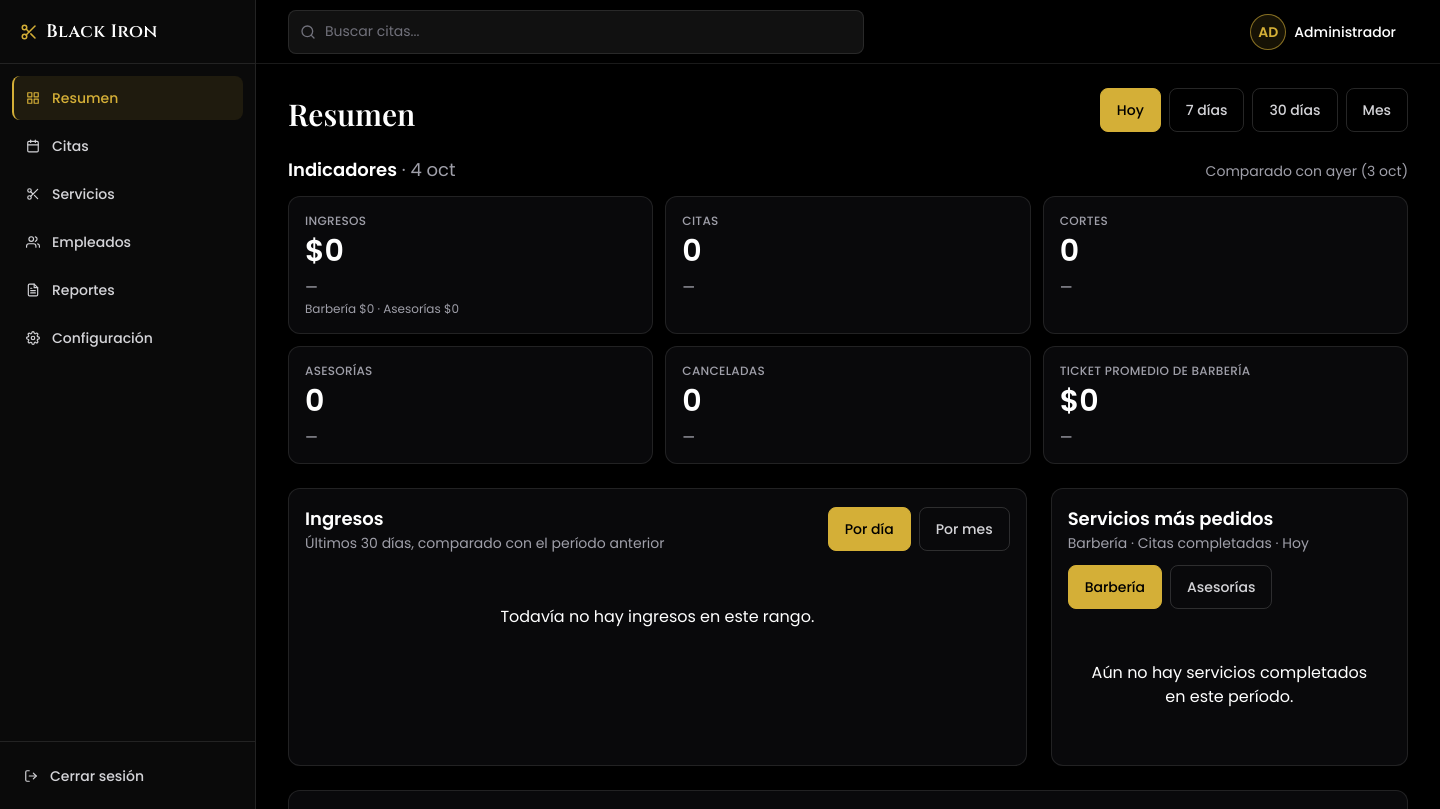
Test case: AdminLayout: confirmación al cerrar sesión › Cancelar y Escape no cierran la sesión y devuelven el foco al botón; el foco inicial está en Cancelar
This screenshot has width=1440, height=809.
Click the button "Cerrar sesión". click: {"x": 128, "y": 776}
box: x1=12 y1=754 x2=243 y2=798
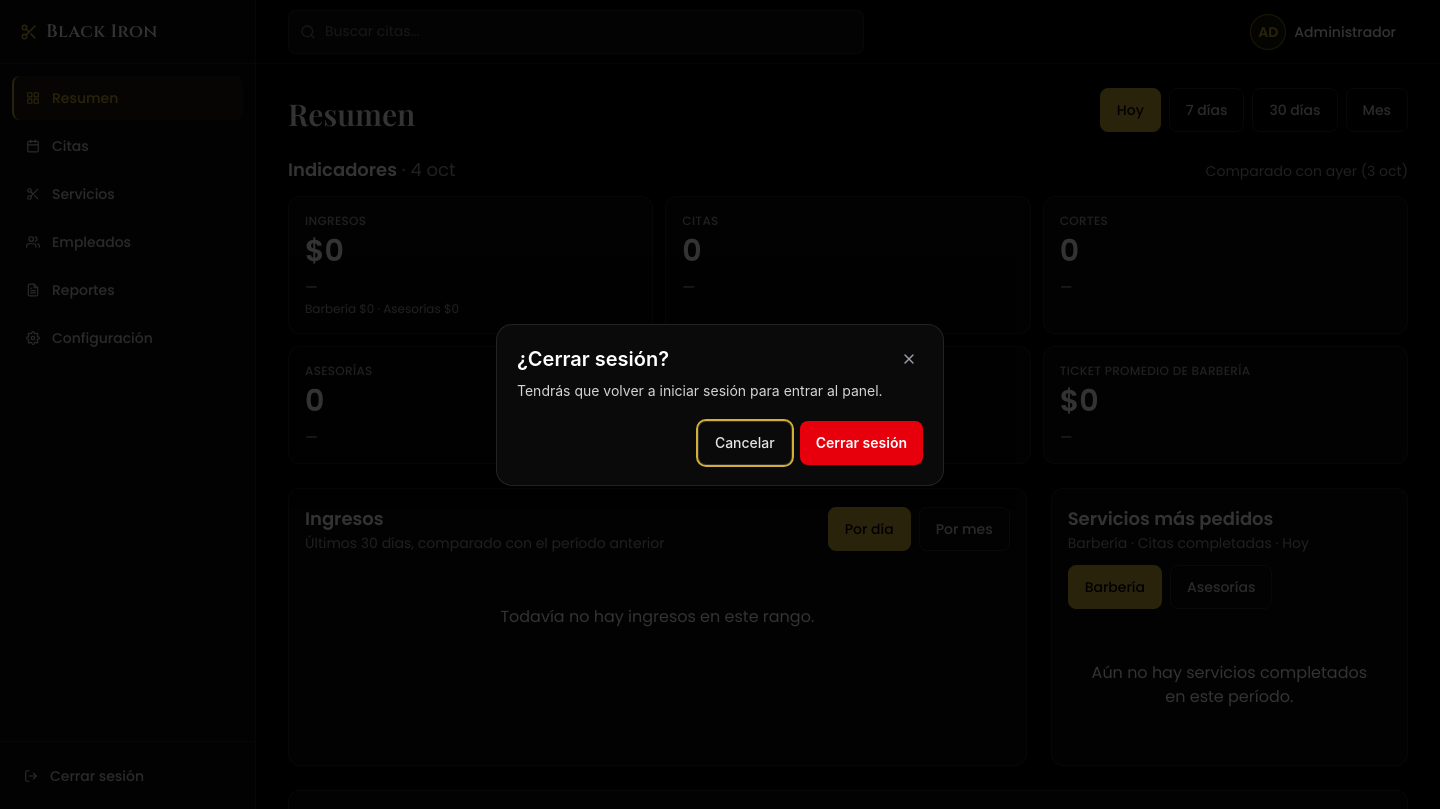
Result: the text "Tendrás que volver a iniciar sesión para entrar al panel." is shown at x1=517 y1=381 x2=923 y2=401
Click the button "Cancelar". click: {"x": 745, "y": 443}
box: x1=698 y1=421 x2=792 y2=465
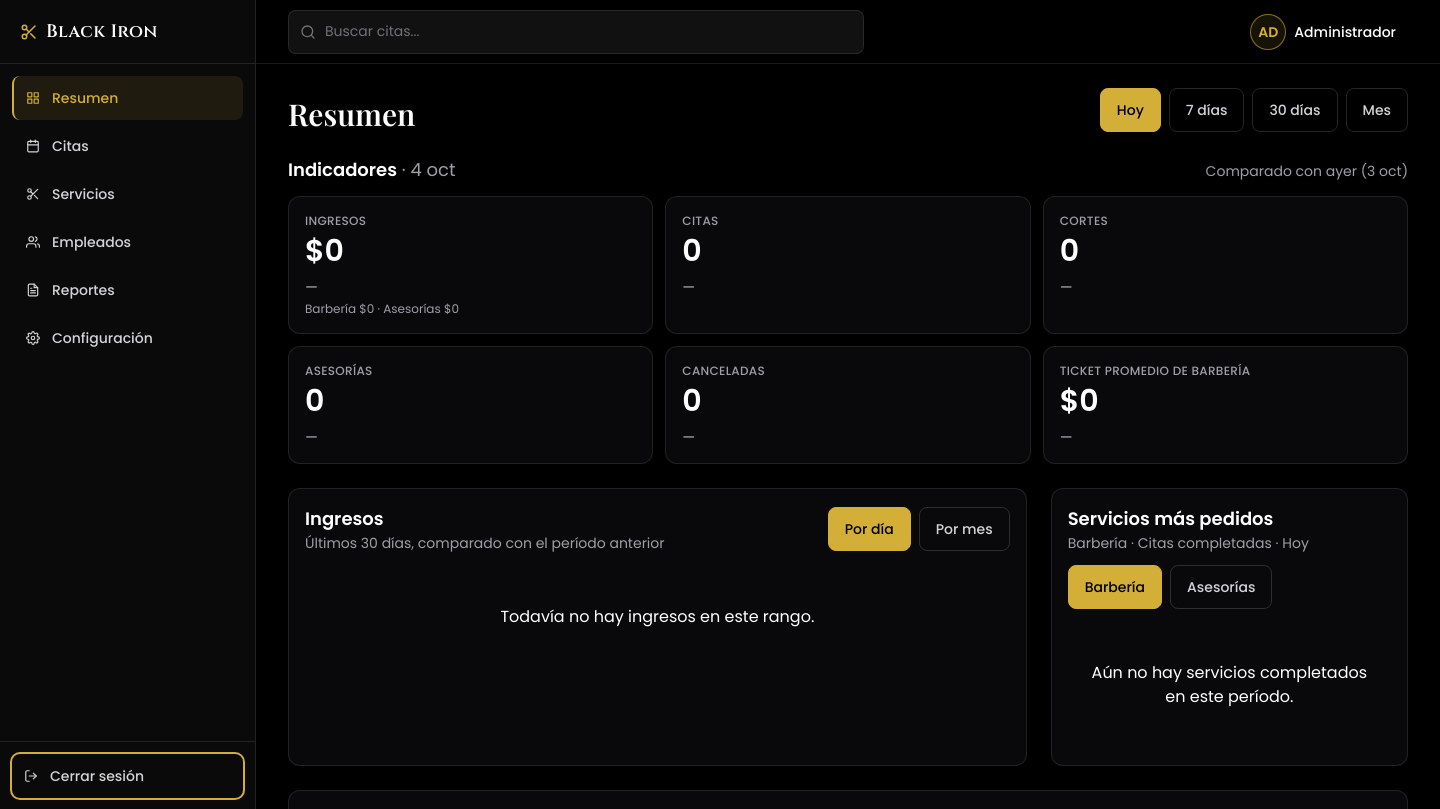
Result: the dialog is gone
Click the button "Cerrar sesión". click: {"x": 128, "y": 776}
box: x1=12 y1=754 x2=243 y2=798
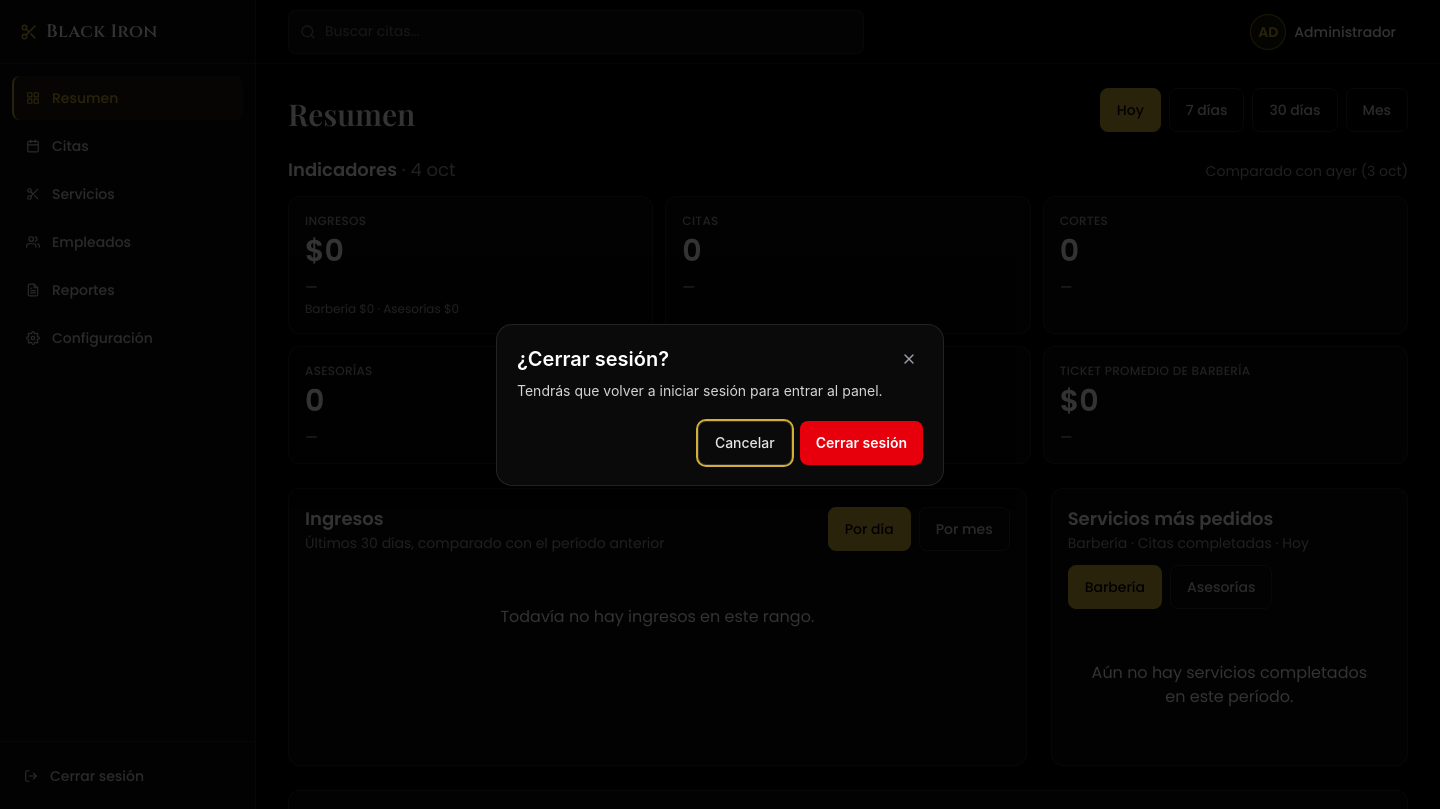
Press Escape
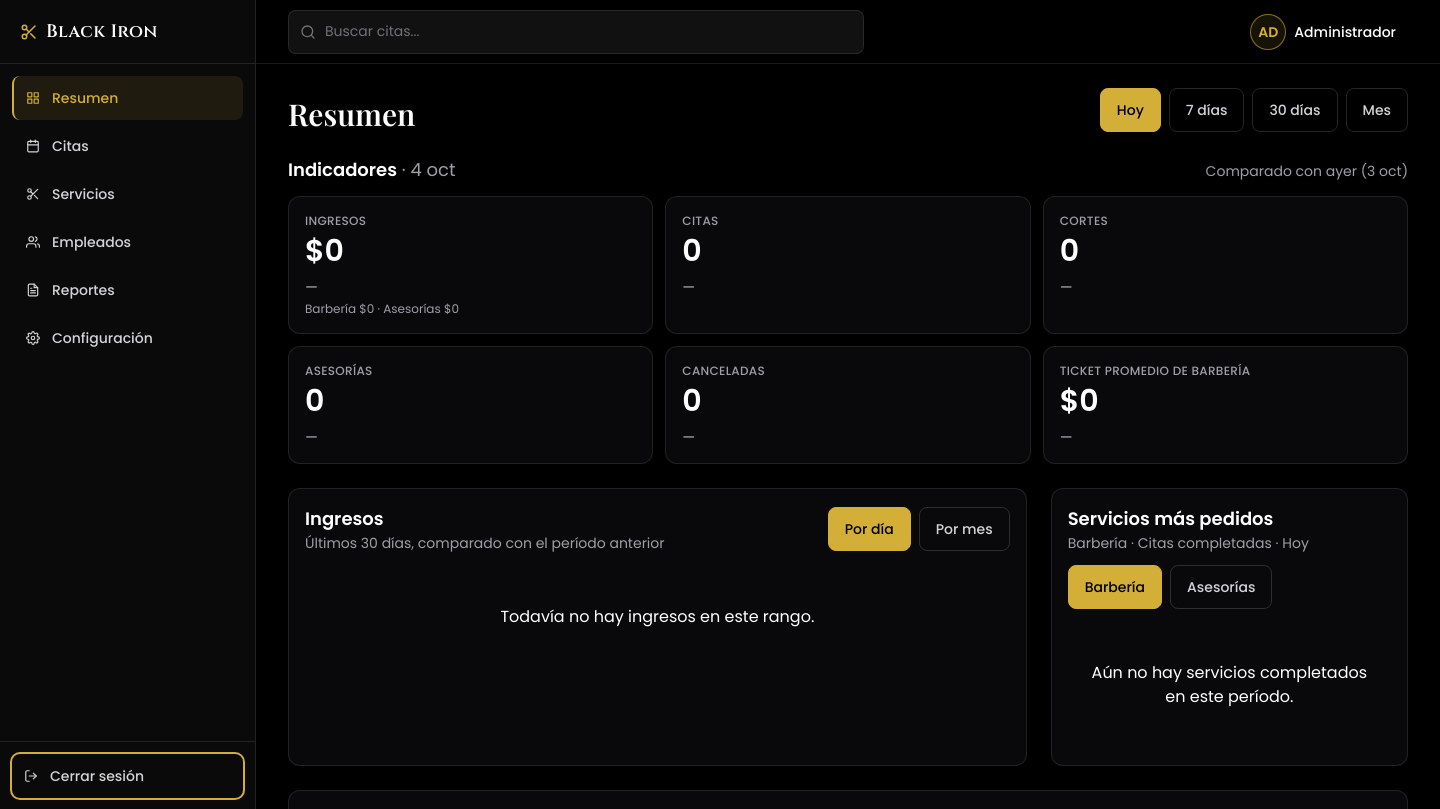
Result: the dialog is gone
